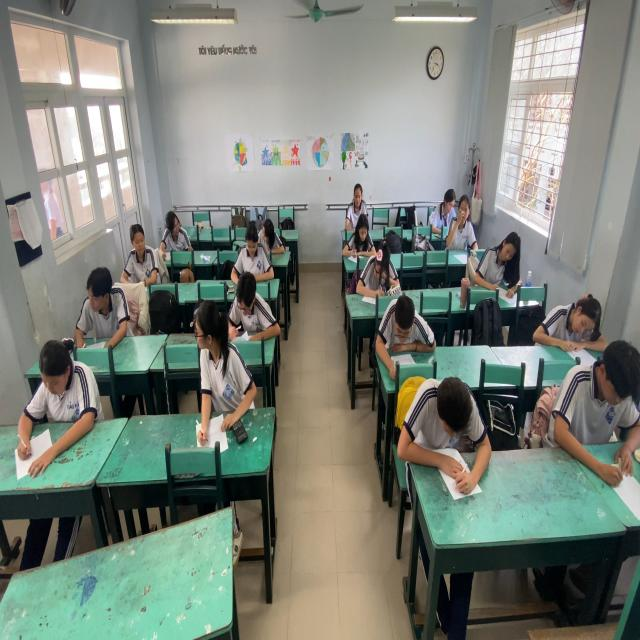cheating: (186, 300, 254, 440), (124, 218, 158, 296), (157, 198, 187, 260), (256, 202, 286, 256)
not_cheating: (566, 329, 637, 487), (27, 336, 92, 453), (416, 366, 477, 487), (552, 272, 598, 360), (84, 258, 122, 358), (228, 262, 274, 340), (382, 292, 430, 362), (482, 218, 511, 290), (238, 222, 270, 286), (339, 171, 370, 229), (451, 190, 478, 256), (366, 245, 395, 292), (347, 208, 372, 261), (436, 178, 458, 225)
